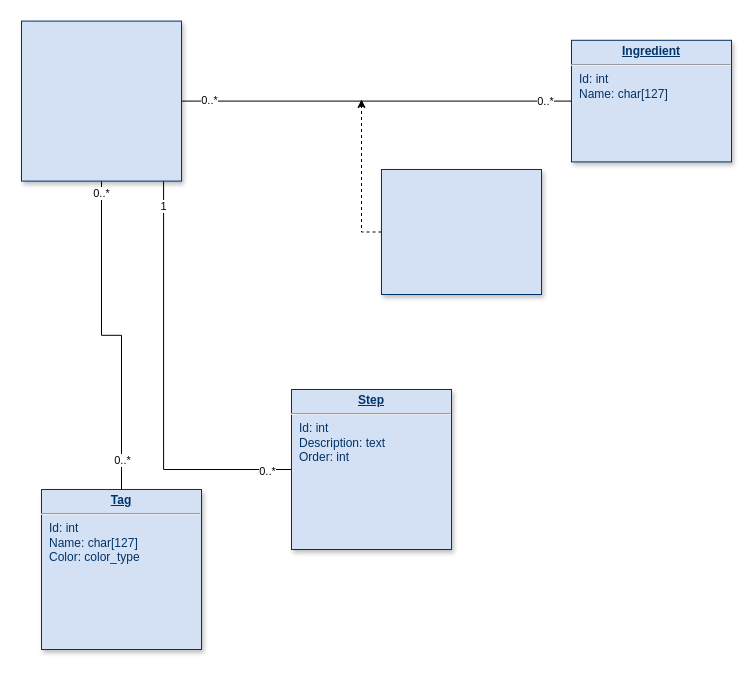
Some shapes in this 755 by 675 pixel diagram are drawn without their labels. Here are the shapes that lost their labels. From the top down, the centre of each, then its label:
At pixel 102 102: "Recipe Id: int Name: char[127] Note: text Created: datetime Updated: datetime".
At pixel 462 233: "Amount Id: int Value: float Unit: char[63]".
